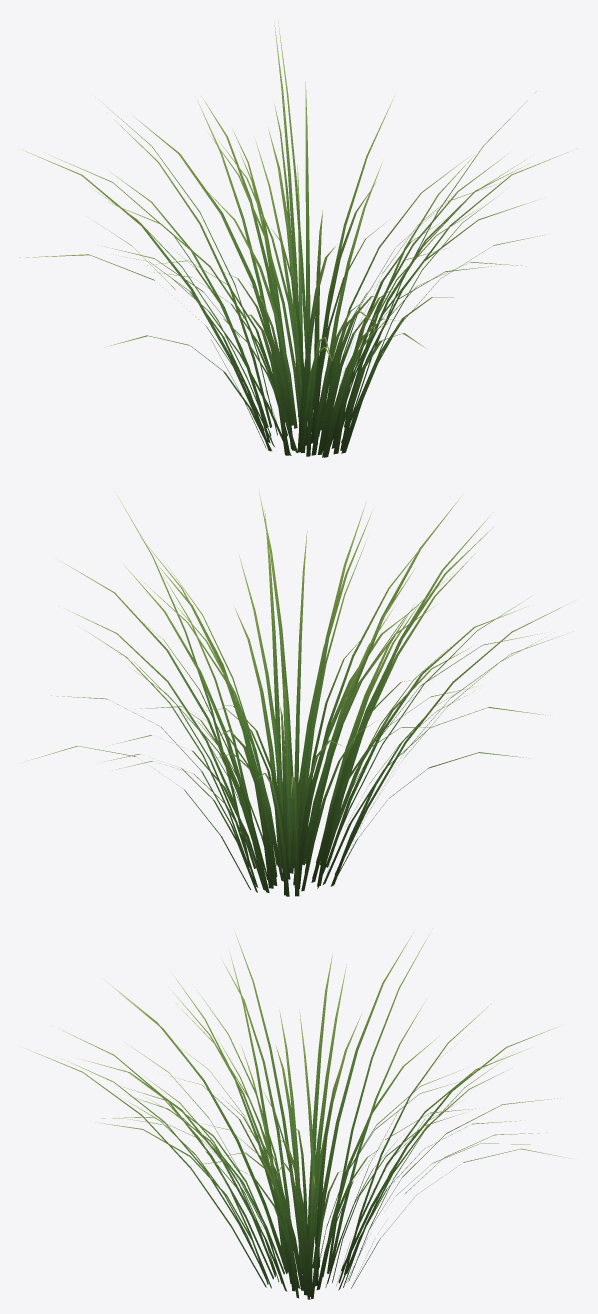
The model's file is Tall_grass.glb.
3 views of the same model, one above another, from view 1: azimuth 30°, elevation 25°; view 2: azimuth 150°, elevation 25°; view 3: azimuth 270°, elevation 25° (orthographic). The views are drawn at different scales.
Visible parts, largest first — view 1: Grass; view 2: Grass; view 3: Grass.
Boxes of the visible parts, x1,y1,x2,y2 form: Grass: [18, 20, 568, 457]; Grass: [25, 491, 567, 896]; Grass: [27, 928, 570, 1299].
Bounding box in the file's own units: 1.45 × 0.8582 × 1.51.
1 material, 1 textured.
